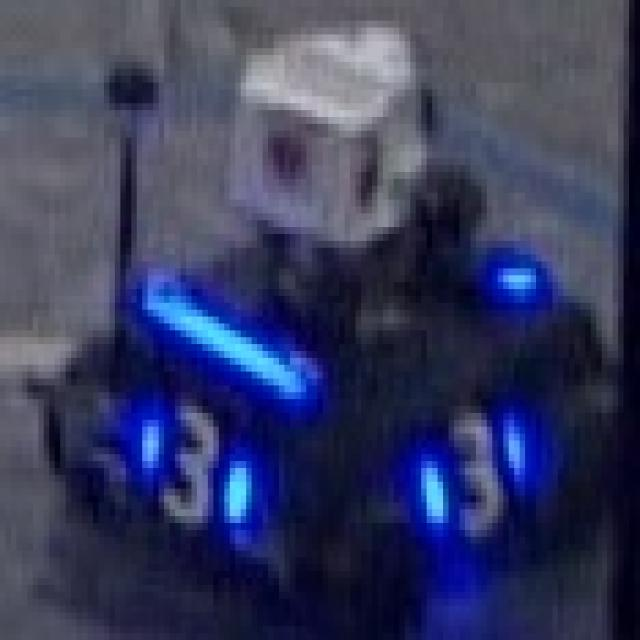B3: (112, 396, 265, 533), (405, 385, 536, 537)
